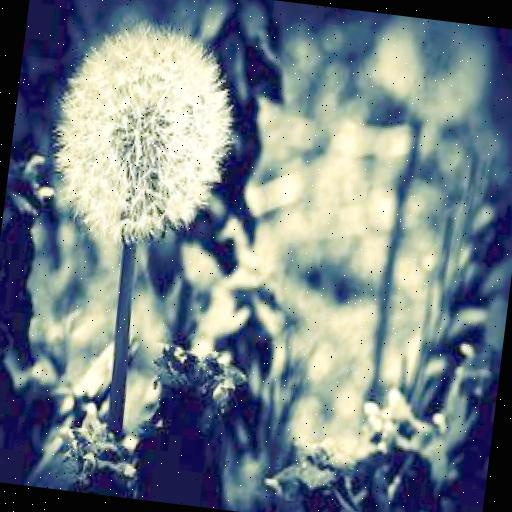dandelion: (46, 12, 243, 256)
